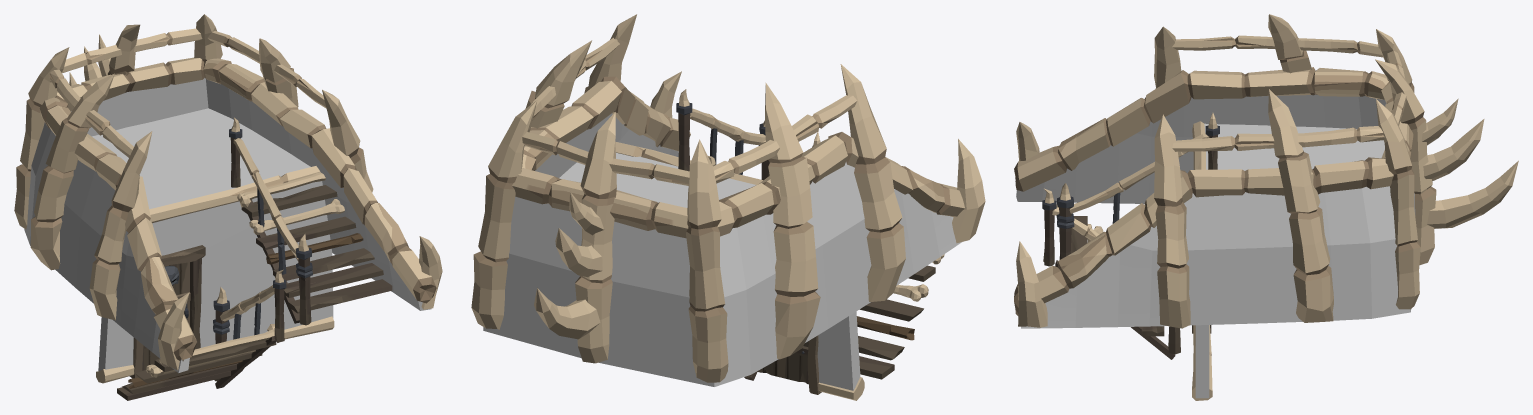
Rendered from SM_Veh_Ship_S_Back_04.fbx.
3 views of the same model, side by side, from view 1: azimuth 30°, elevation 25°; view 2: azimuth 150°, elevation 25°; view 3: azimuth 270°, elevation 25° (orthographic). The views are drawn at different scales.
Parts seen in each view (by area): view 1: SM_Veh_Ship_S_Back_04, SM_Veh_Ship_S_Back_04_Door; view 2: SM_Veh_Ship_S_Back_04, SM_Veh_Ship_S_Back_04_Door; view 3: SM_Veh_Ship_S_Back_04.
Part boxes in pixels (x1,y1,x2,y2): SM_Veh_Ship_S_Back_04: (14,14,442,400); SM_Veh_Ship_S_Back_04_Door: (142,262,190,370); SM_Veh_Ship_S_Back_04: (471,14,985,400); SM_Veh_Ship_S_Back_04_Door: (757,341,808,384); SM_Veh_Ship_S_Back_04: (1014,14,1518,400).
Size of the model in its own units: 570 by 569 by 830.
